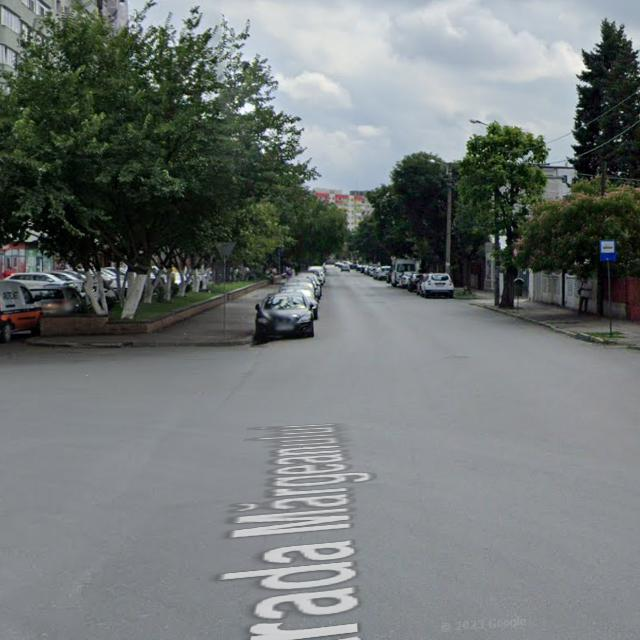info_bus_station: (600, 240, 616, 260)
